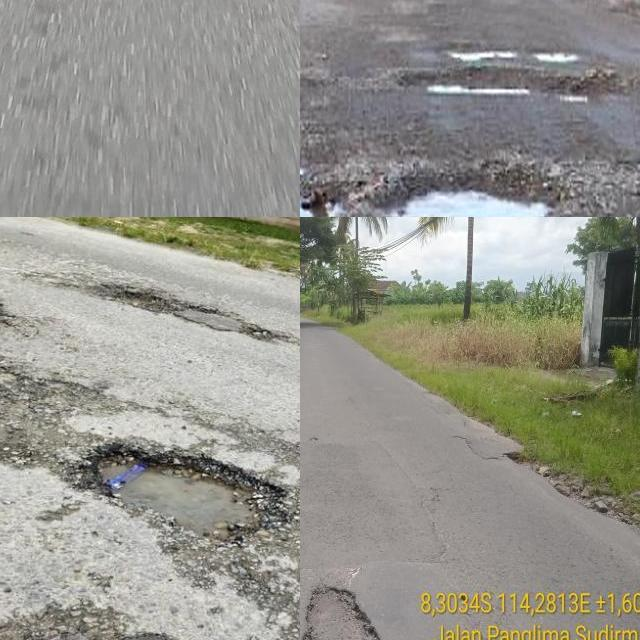Lubang: (92, 445, 287, 549), (385, 170, 579, 217), (413, 69, 600, 106), (303, 586, 382, 640)
